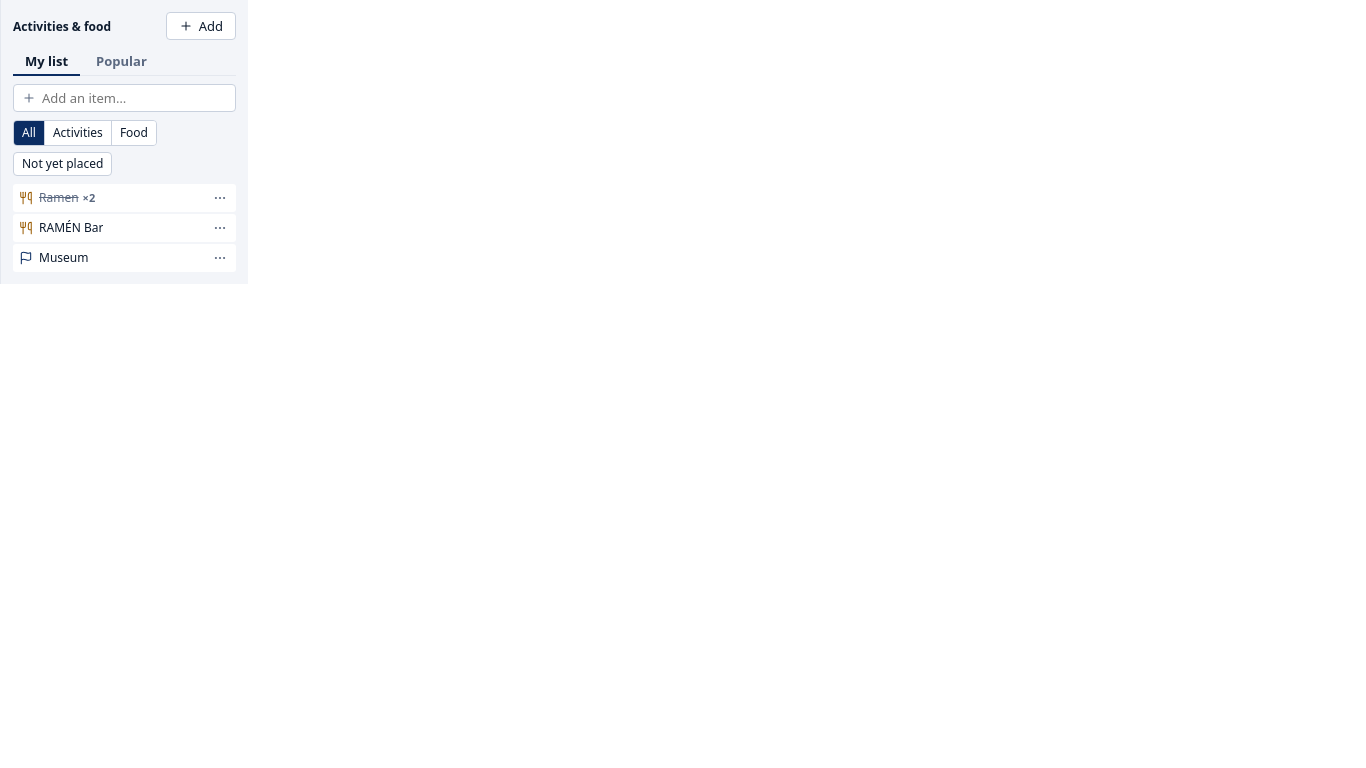
Scenario: ItemPanel › opens the edit dialog when a row is double-clicked
Double-click the text "Museum".
double_click(64, 257)  # box [39,249,88,266]
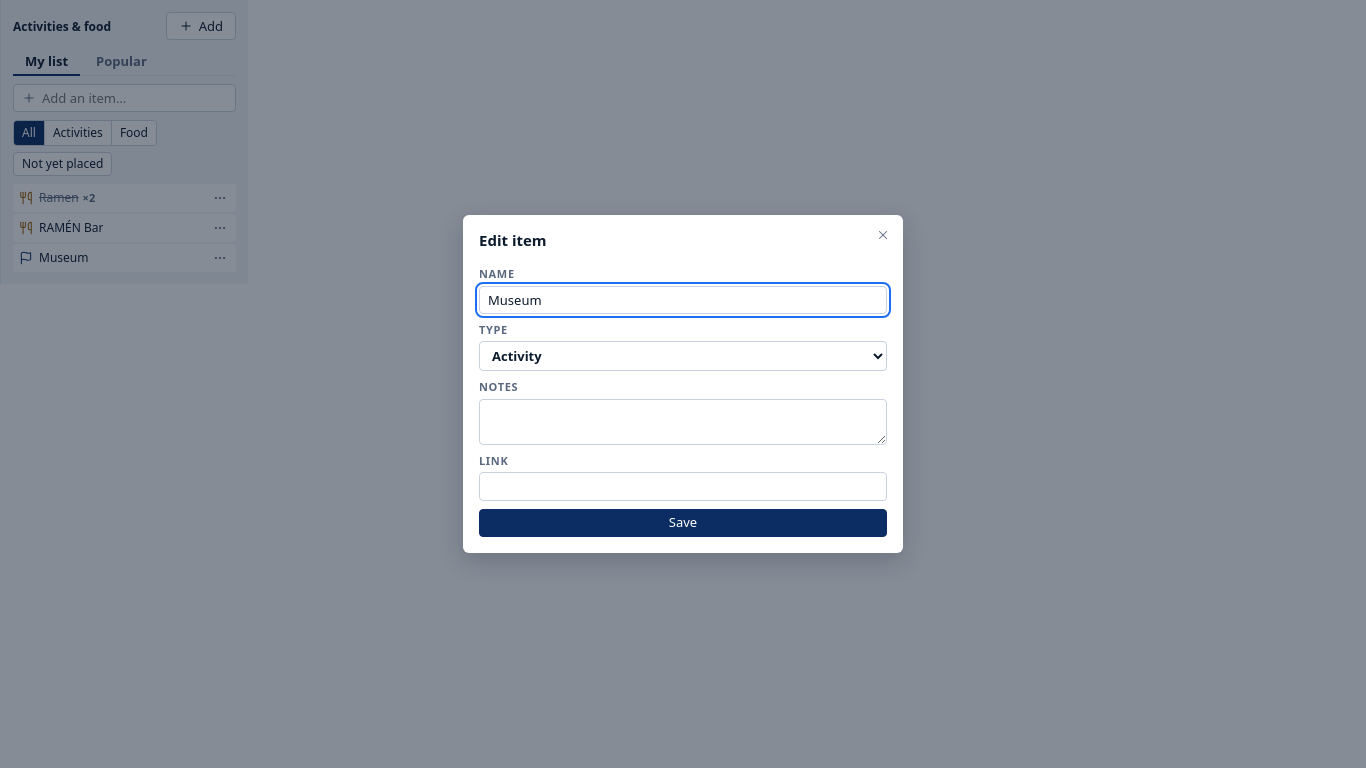
Expected: the dropdown labelled "Name" holds "Museum", [479,286,887,314]
